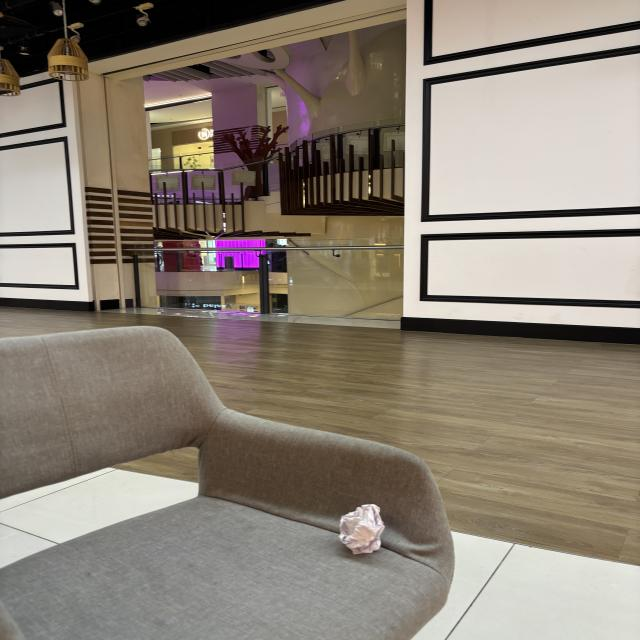crumpled_paper: (334, 501, 388, 560)
